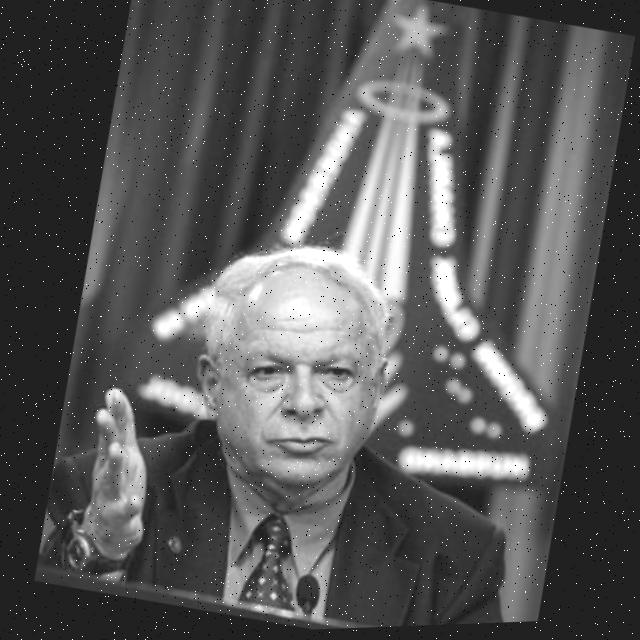face: (174, 249, 401, 501)
